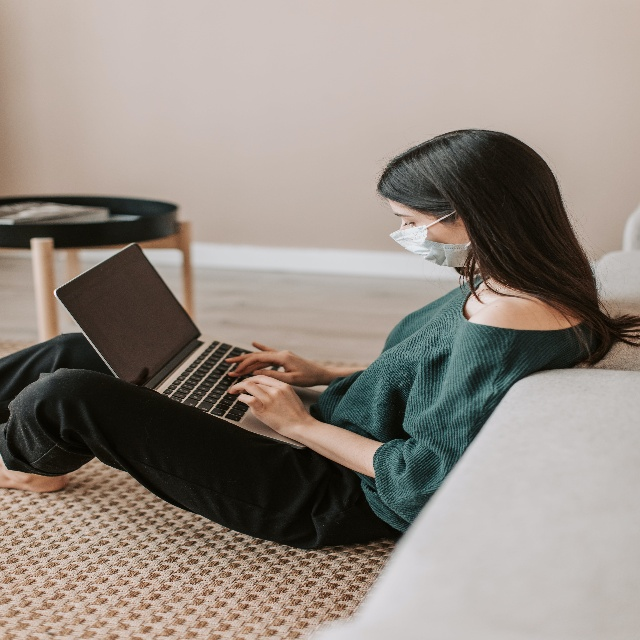Mascara: (388, 210, 473, 270)
Sin_guantes: (228, 374, 309, 442), (225, 331, 316, 389)
